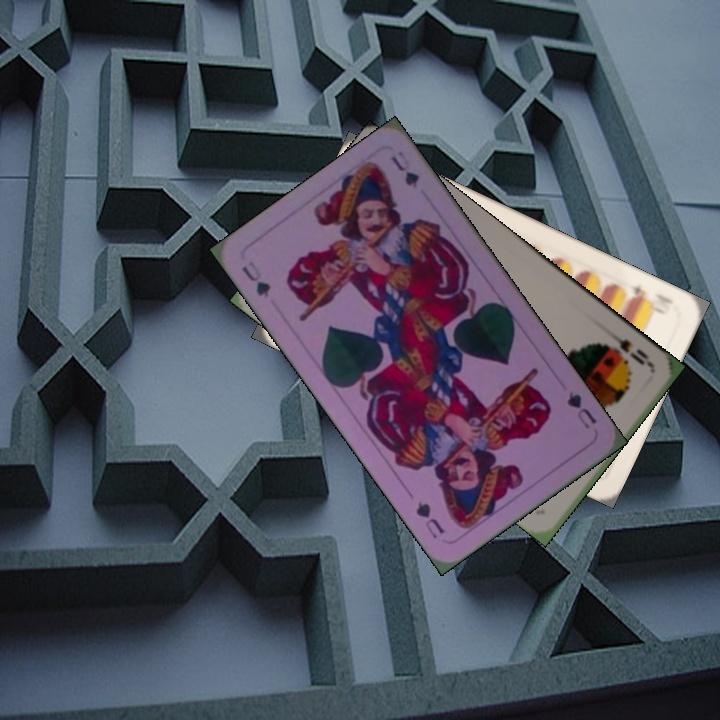E10: (623, 281, 661, 305)
GU: (562, 388, 599, 432), (237, 257, 273, 301)
SO: (603, 326, 654, 369)
